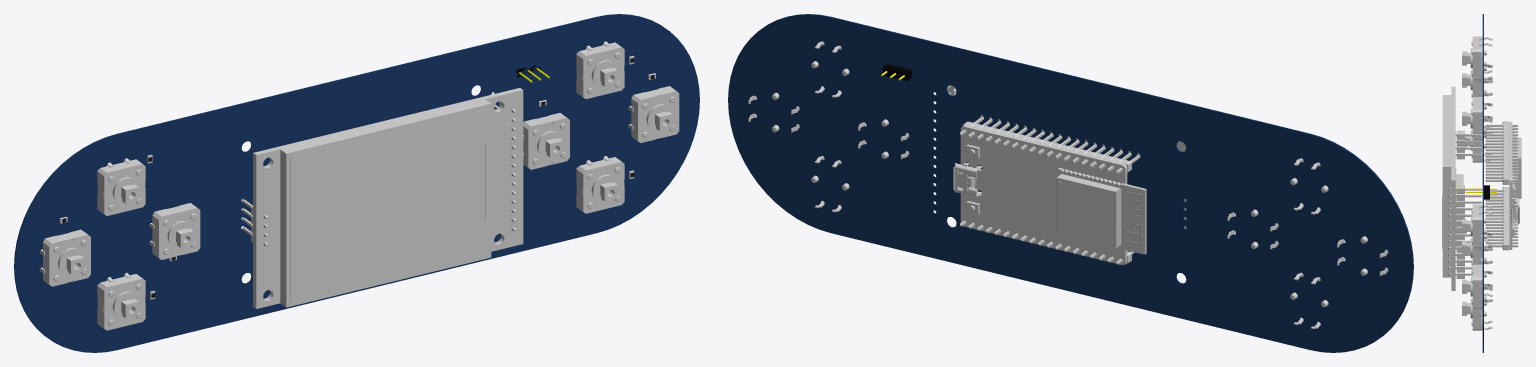
The model's file is console_pcb.glb.
3 renders of one model, left to right at view 1: azimuth 30°, elevation 25°; view 2: azimuth 150°, elevation 25°; view 3: azimuth 270°, elevation 25°, orthographic. The views are drawn at different scales.
Parts seen in each view (by area): view 1: Open CASCADE STEP translator 7.5 1.1.1, nodes[333], nodes[318], nodes[334], nodes[23], nodes[55], nodes[15], nodes[31], nodes[47], nodes[63], nodes[39], nodes[7] (+17 smaller); view 2: Open CASCADE STEP translator 7.5 1.1.1, nodes[144], nodes[248], nodes[250], nodes[273]; view 3: nodes[334], nodes[318], Open CASCADE STEP translator 7.5 1.1.1, nodes[300], nodes[144], nodes[23], nodes[31], nodes[63], nodes[55], nodes[248], nodes[15], nodes[273] (+26 smaller).
Boxes of the visible parts, x1=… form: Open CASCADE STEP translator 7.5 1.1.1: x1=14, y1=14, x2=699, y2=352; nodes[333]: x1=290, y1=109, x2=487, y2=301; nodes[318]: x1=253, y1=88, x2=523, y2=308; nodes[334]: x1=280, y1=99, x2=491, y2=307; nodes[23]: x1=631, y1=86, x2=679, y2=142; nodes[55]: x1=152, y1=203, x2=200, y2=259; nodes[15]: x1=576, y1=157, x2=624, y2=213; nodes[31]: x1=576, y1=42, x2=624, y2=98; nodes[47]: x1=97, y1=274, x2=145, y2=330; nodes[63]: x1=97, y1=159, x2=145, y2=215; nodes[39]: x1=43, y1=229, x2=90, y2=286; nodes[7]: x1=523, y1=113, x2=569, y2=169; Open CASCADE STEP translator 7.5 1.1.1: x1=728, y1=14, x2=1413, y2=352; nodes[144]: x1=960, y1=125, x2=1127, y2=265; nodes[248]: x1=1056, y1=174, x2=1121, y2=247; nodes[250]: x1=1057, y1=167, x2=1146, y2=254; nodes[273]: x1=953, y1=162, x2=982, y2=196; nodes[334]: x1=1442, y1=95, x2=1451, y2=277; nodes[318]: x1=1451, y1=86, x2=1455, y2=290; Open CASCADE STEP translator 7.5 1.1.1: x1=1482, y1=14, x2=1483, y2=352; nodes[300]: x1=1442, y1=176, x2=1449, y2=268; nodes[144]: x1=1509, y1=122, x2=1512, y2=249; nodes[23]: x1=1472, y1=264, x2=1482, y2=308; nodes[31]: x1=1472, y1=204, x2=1482, y2=248; nodes[63]: x1=1472, y1=36, x2=1482, y2=80; nodes[55]: x1=1472, y1=97, x2=1482, y2=140; nodes[248]: x1=1515, y1=137, x2=1521, y2=198; nodes[15]: x1=1472, y1=308, x2=1482, y2=330; nodes[273]: x1=1511, y1=198, x2=1519, y2=225.
Size of the model in its own units: 200 by 60.25 by 27.86.
